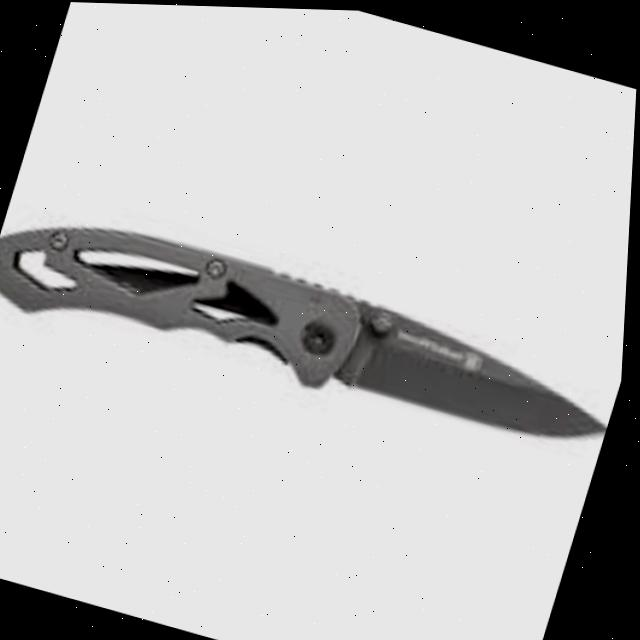Knife: (0, 191, 632, 470)
